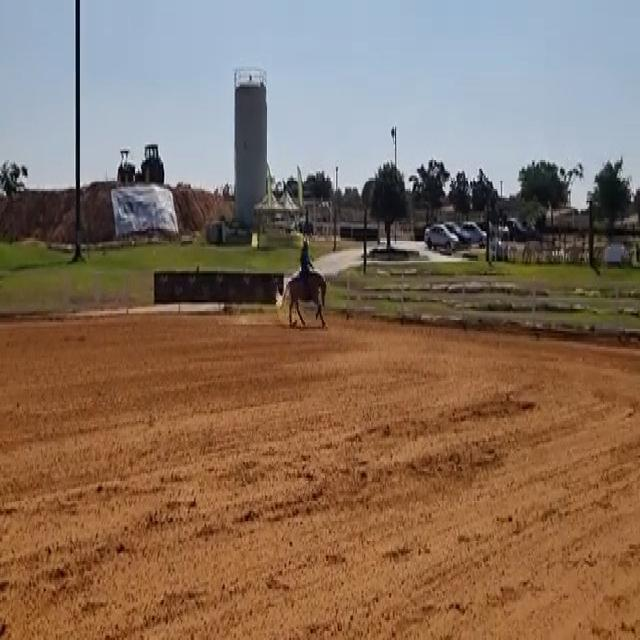horse: (275, 265, 329, 331)
